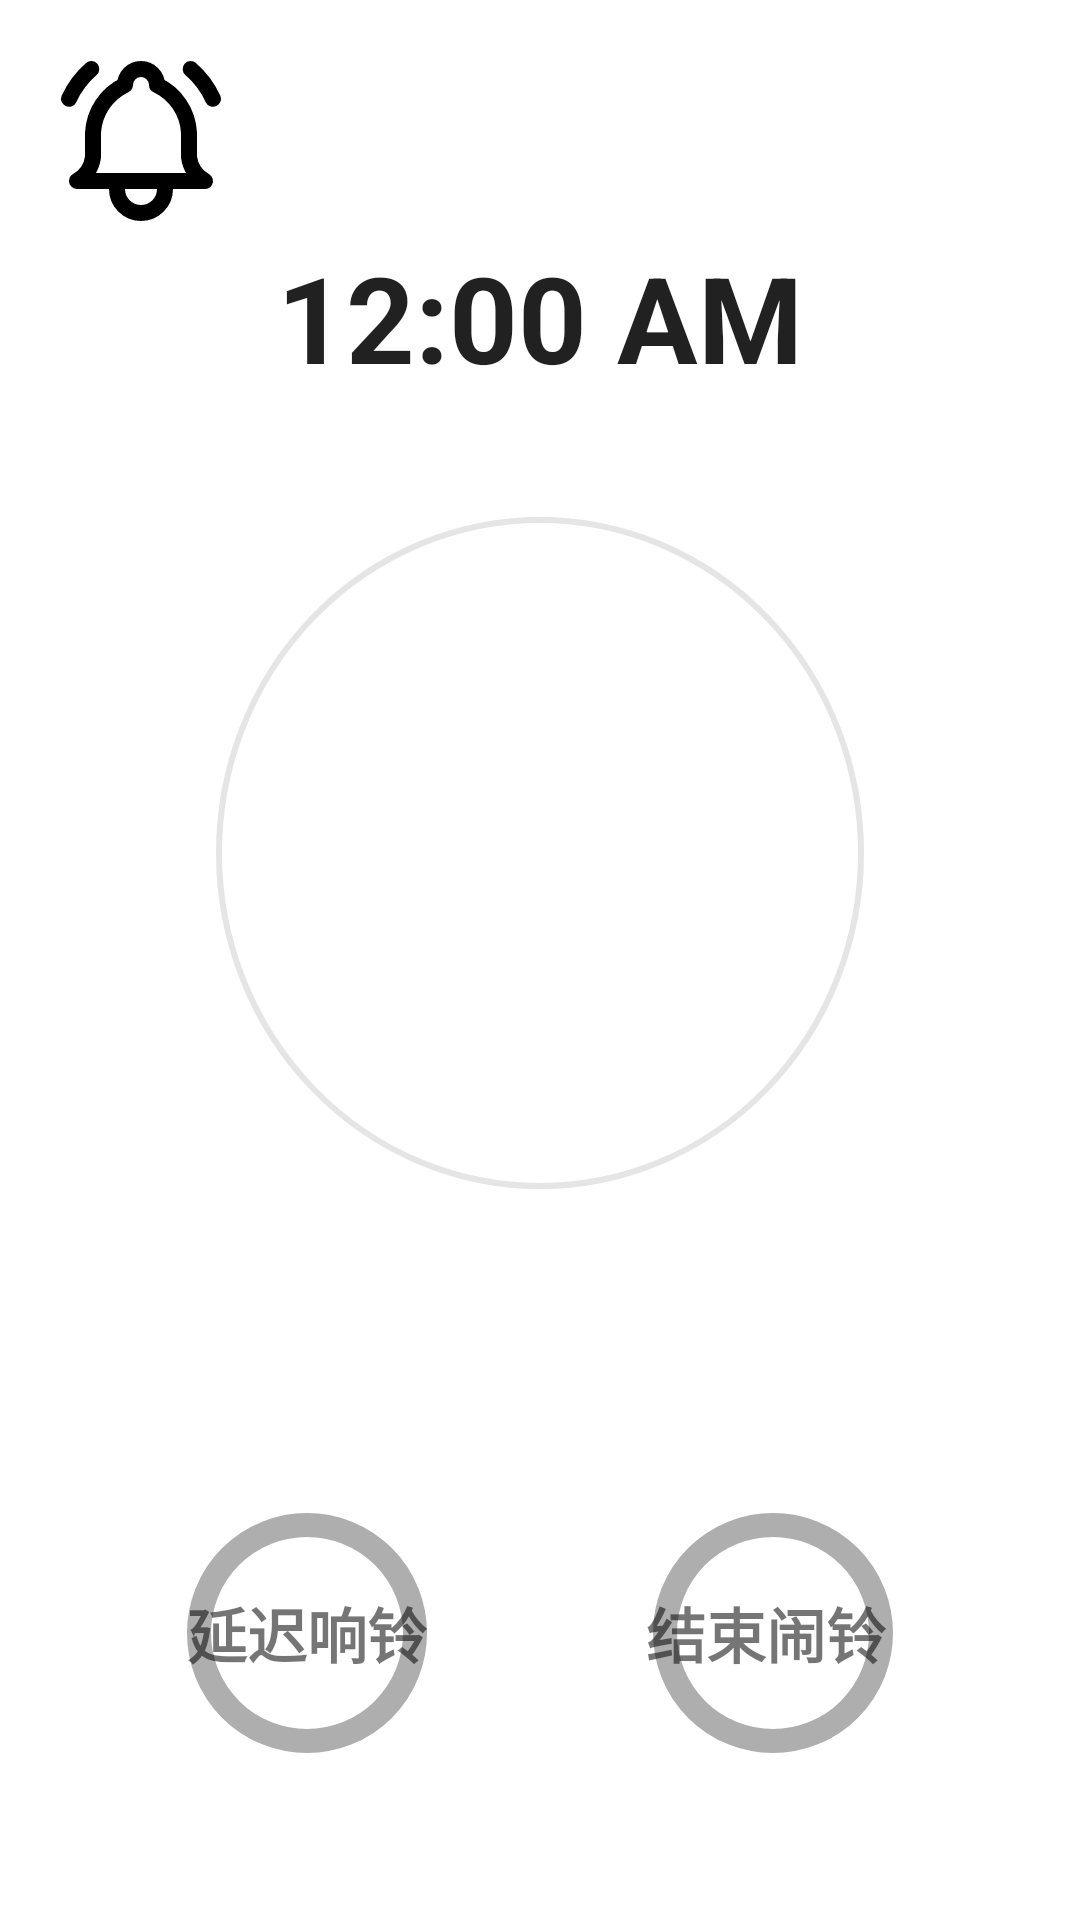

Icon bounding boxes for this 1080w x 1920h phone screenshot, format bbox=[x1, y1, x2, y2]:
bell ringing: bbox=[61, 61, 221, 221]
